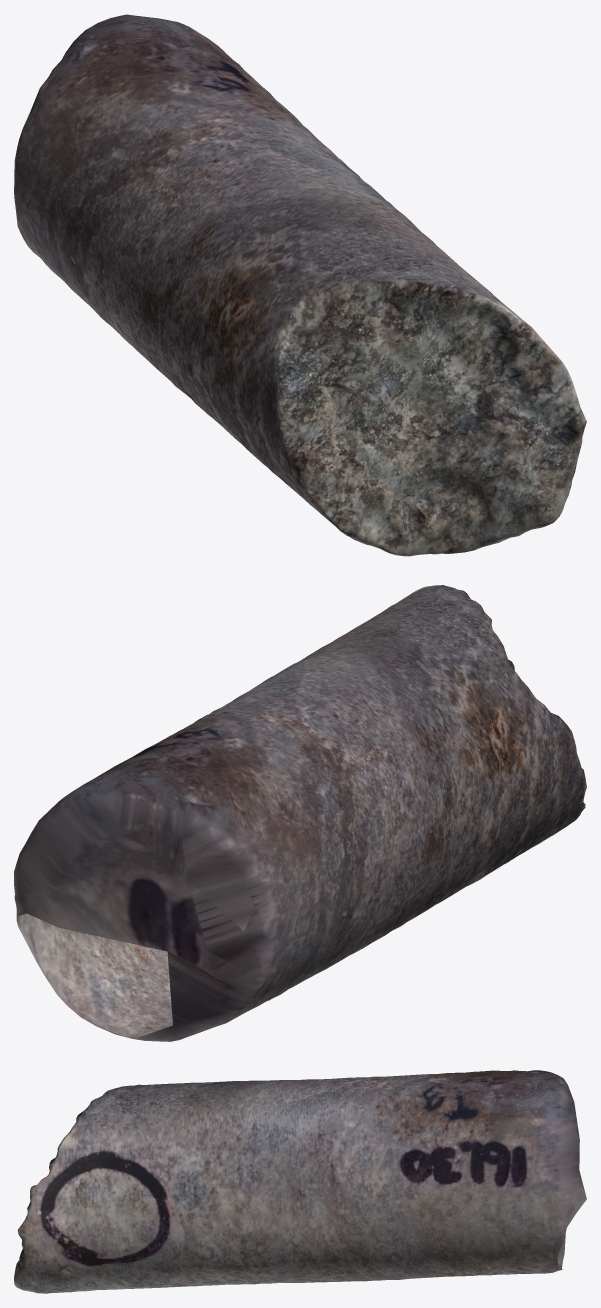
The model's file is PECLD07756 T3.glb.
3 renders of one model, top to bottom at view 1: azimuth 30°, elevation 25°; view 2: azimuth 150°, elevation 25°; view 3: azimuth 270°, elevation 25°, orthographic. The views are drawn at different scales.
Parts seen in each view (by area): view 1: baked_mesh; view 2: baked_mesh; view 3: baked_mesh.
Part boxes in pixels (x1,y1,x2,y2): baked_mesh: (14, 14, 586, 556); baked_mesh: (14, 585, 586, 1041); baked_mesh: (14, 1070, 586, 1293).
Size of the model in its own units: 0.2462 by 0.2604 by 0.6445.
Materials: 1 (1 with a texture image).
